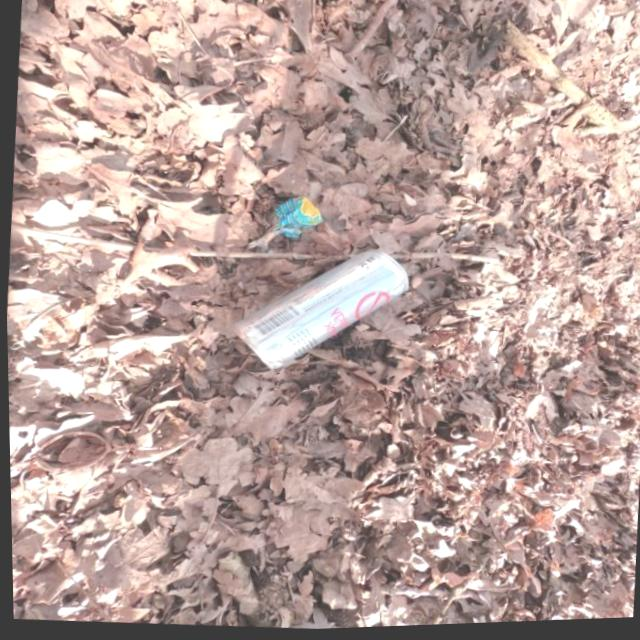Can-Metal: (225, 238, 413, 380)
Plastic: (264, 193, 326, 242)
